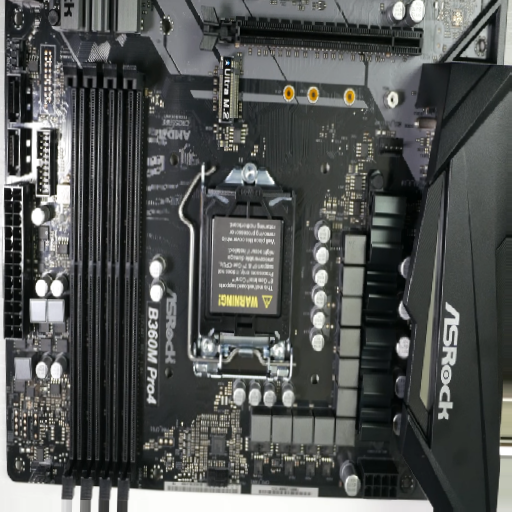CPU: (192, 162, 298, 382)
GPU: (200, 5, 423, 55)
RAM: (61, 61, 142, 512)
SSD: (212, 54, 242, 127)
